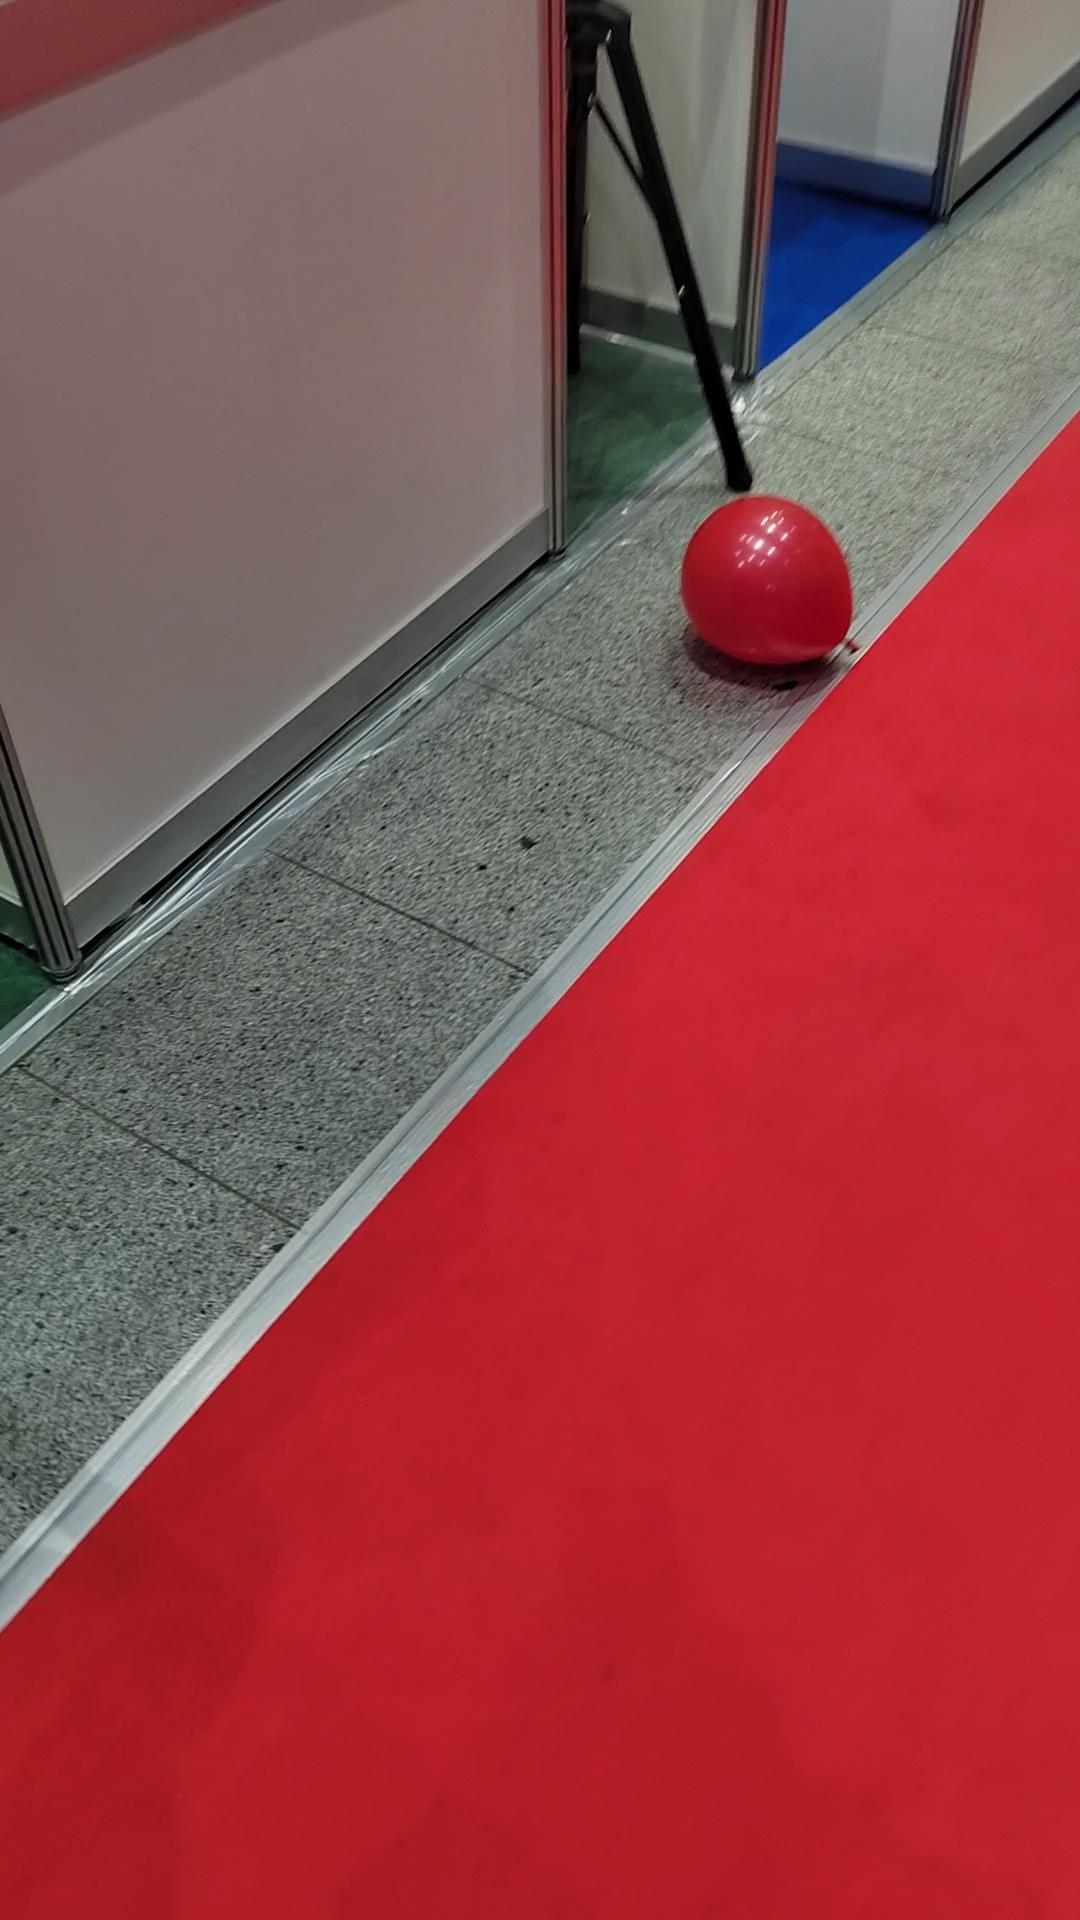red: (670, 491, 860, 673)
